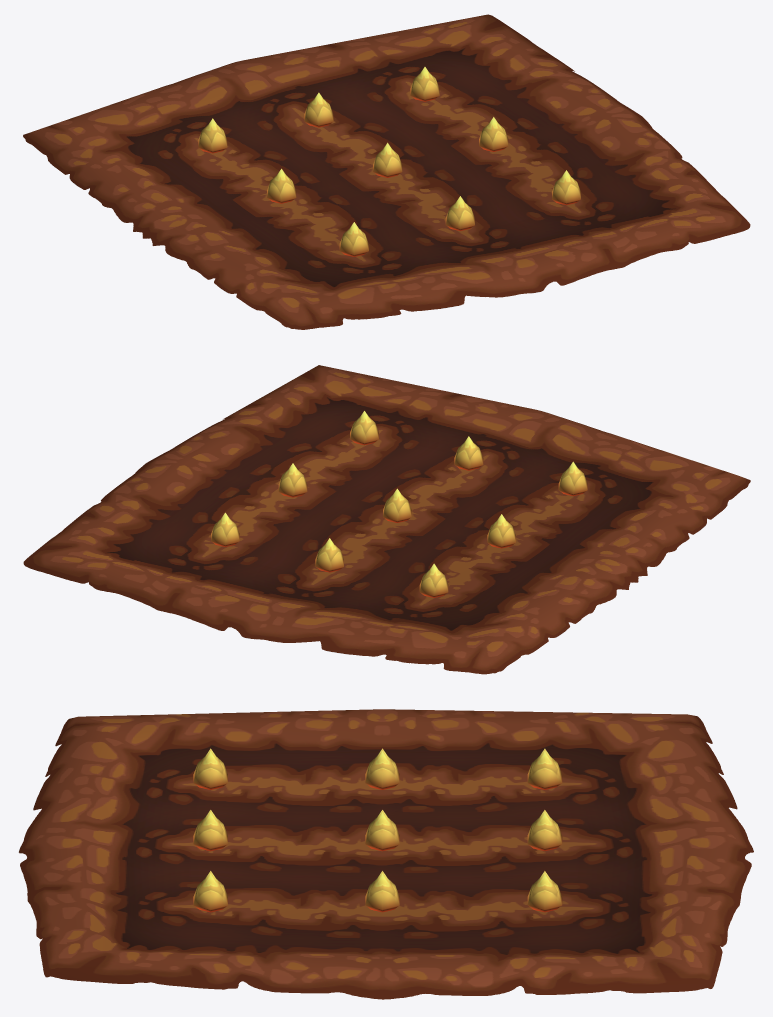
The model's file is Tulip_Field_Red_Lv1.FBX.
3 renders of one model, top to bottom at view 1: azimuth 30°, elevation 25°; view 2: azimuth 150°, elevation 25°; view 3: azimuth 270°, elevation 25°, orthographic. The views are drawn at different scales.
Parts seen in each view (by area): view 1: Tulip_Field_Red_Lv1; view 2: Tulip_Field_Red_Lv1; view 3: Tulip_Field_Red_Lv1.
Boxes of the visible parts, x1,y1,x2,y2 form: Tulip_Field_Red_Lv1: [23, 14, 750, 329]; Tulip_Field_Red_Lv1: [23, 365, 750, 674]; Tulip_Field_Red_Lv1: [18, 709, 753, 999].
Size of the model in its own units: 274 by 19.63 by 296.
